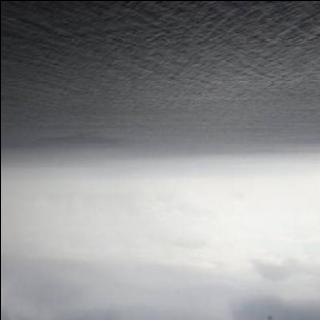Altostratus: (3, 157, 320, 320)
